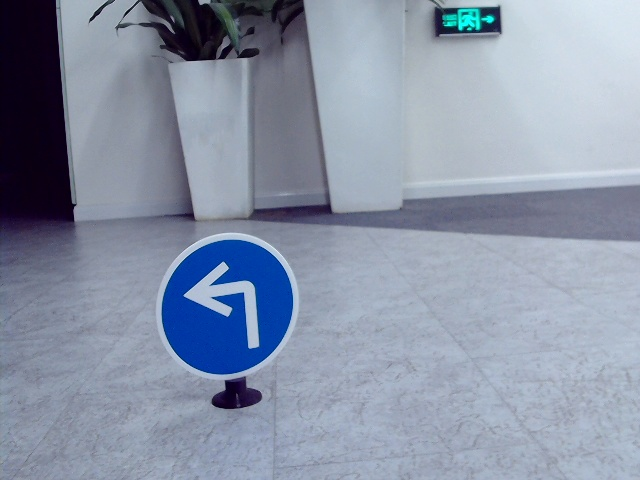turn_left: (183, 260, 266, 354)
